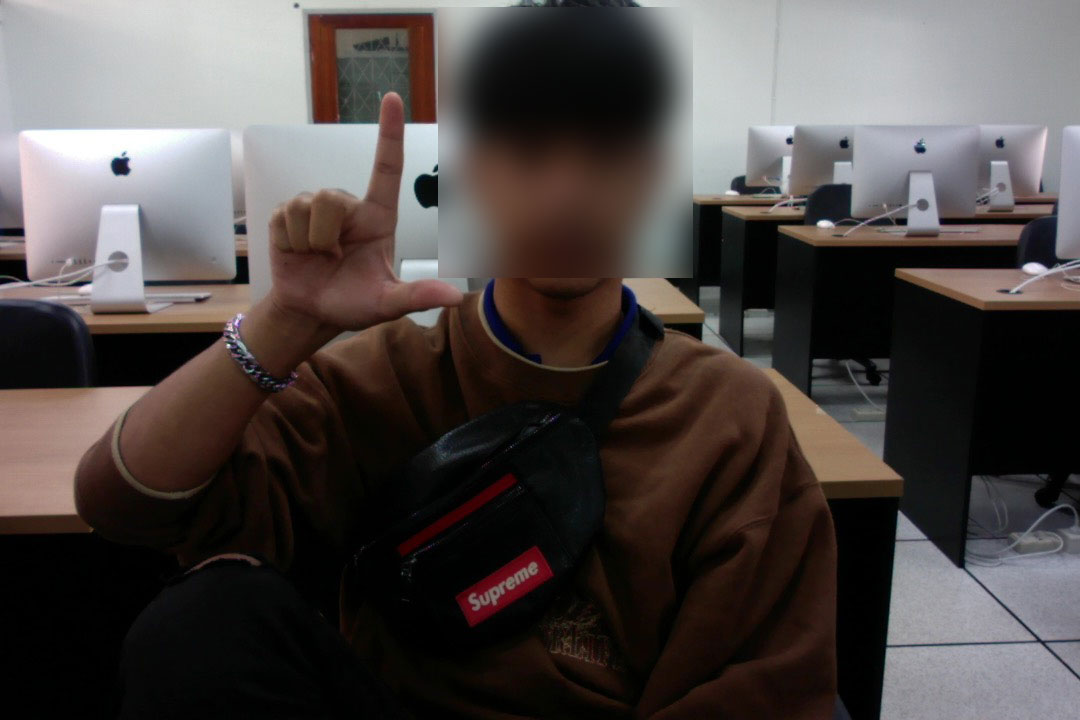lor: (218, 79, 471, 337)
